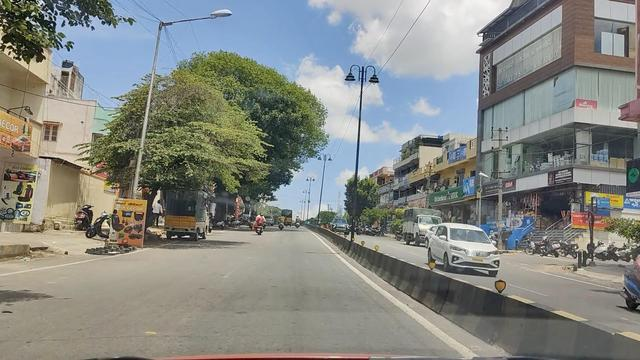HMV: (162, 186, 211, 240)
LMV: (253, 209, 268, 236)
